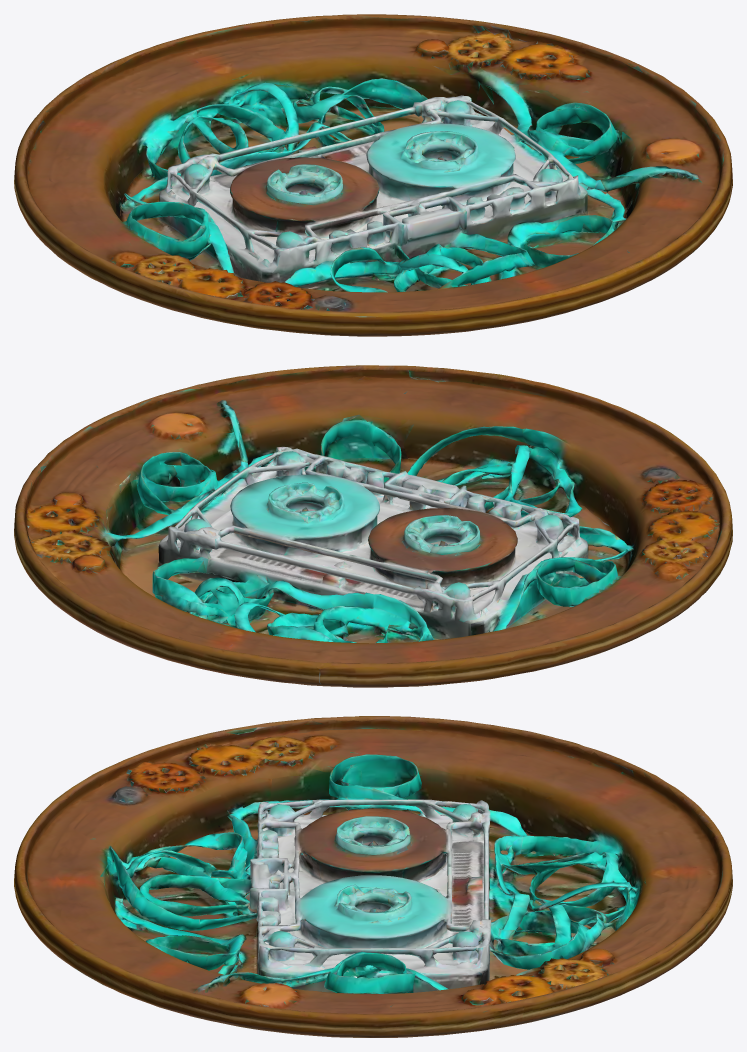
The model's file is classica_3d.glb.
3 views of the same model, one above another, from view 1: azimuth 30°, elevation 25°; view 2: azimuth 150°, elevation 25°; view 3: azimuth 270°, elevation 25° (orthographic).
Visible parts, largest first — view 1: mesh_0; view 2: mesh_0; view 3: mesh_0.
Part boxes in pixels (x1,y1,x2,y2): mesh_0: [14, 14, 732, 336]; mesh_0: [14, 365, 732, 687]; mesh_0: [14, 716, 732, 1037].
Bounding box in the file's own units: 1.91 × 0.1886 × 1.91.
Materials: 1 (1 with a texture image).
